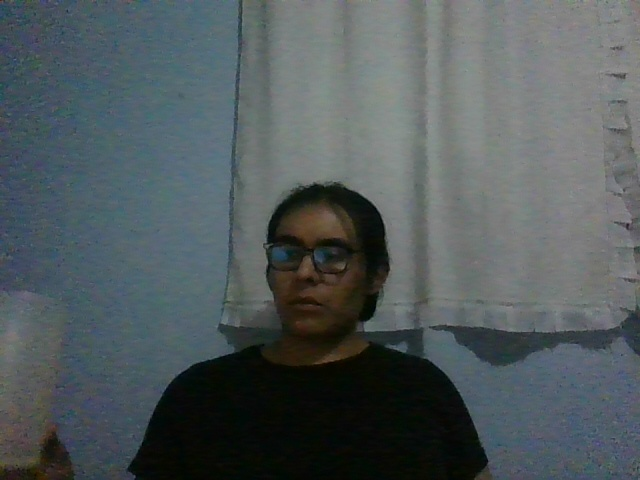vaso: (1, 290, 68, 469)
